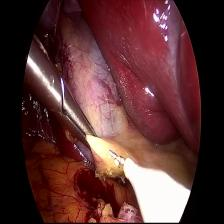Grasper: (25, 30, 100, 151)
Hook: (106, 144, 182, 219)
